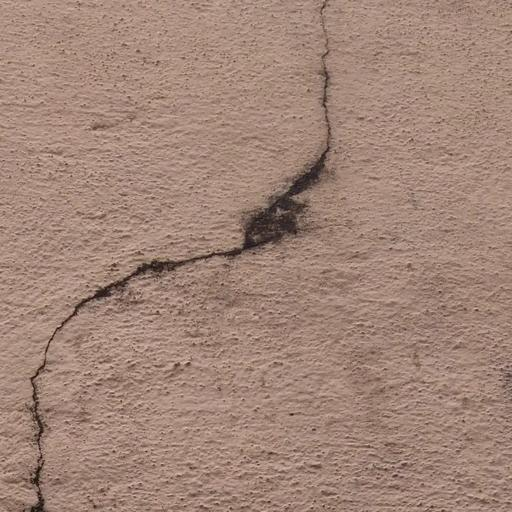minor_crack: (23, 0, 343, 512)
